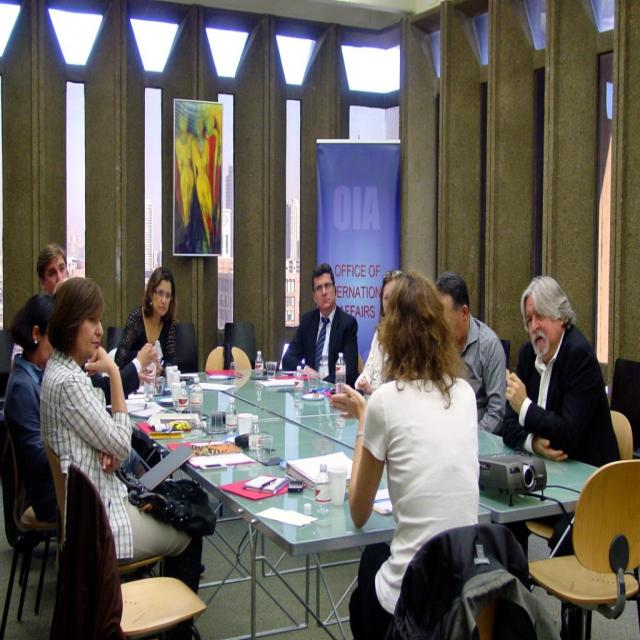body: (38, 274, 204, 639), (326, 262, 483, 639), (500, 273, 624, 563), (3, 290, 150, 515), (434, 269, 508, 436), (279, 260, 362, 390), (172, 99, 223, 260), (113, 265, 179, 378), (81, 339, 164, 418), (353, 269, 404, 396), (36, 245, 70, 297), (5, 308, 26, 373)
